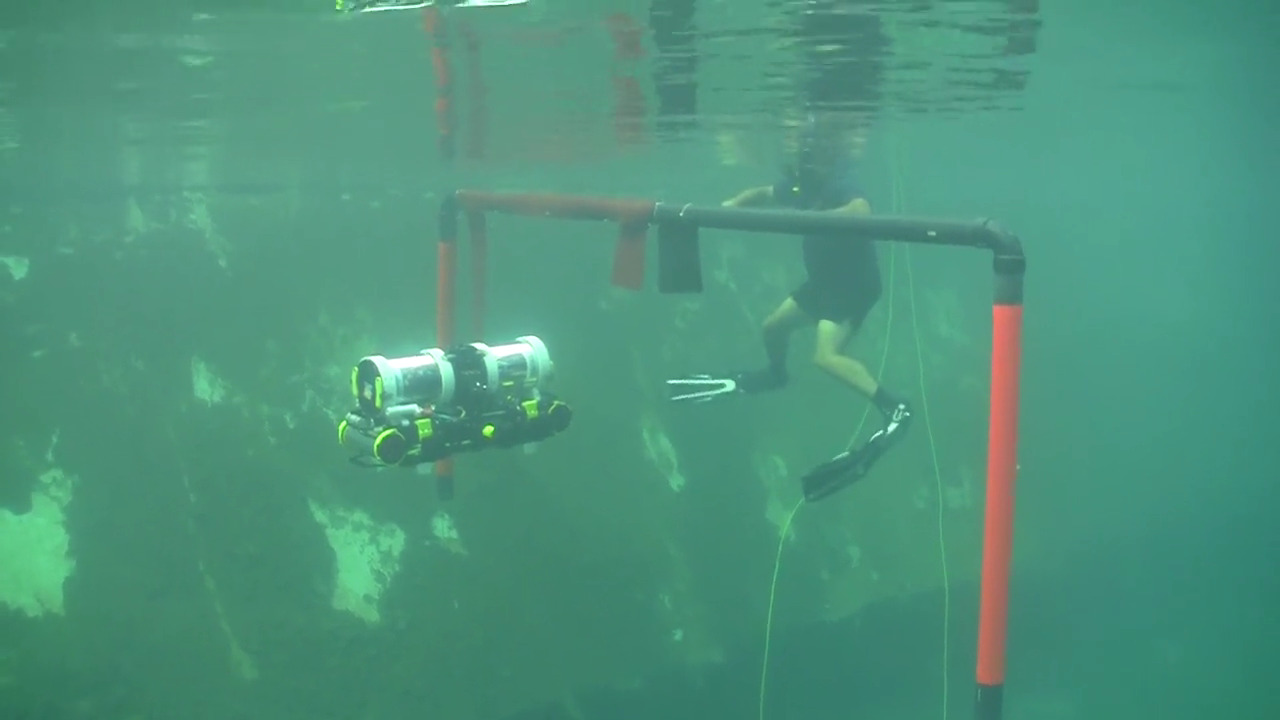gate: (414, 178, 1032, 720)
